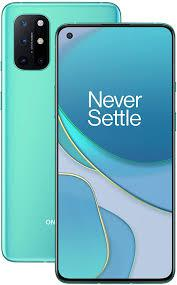Smartphone: (54, 20, 171, 276), (5, 9, 118, 266)
